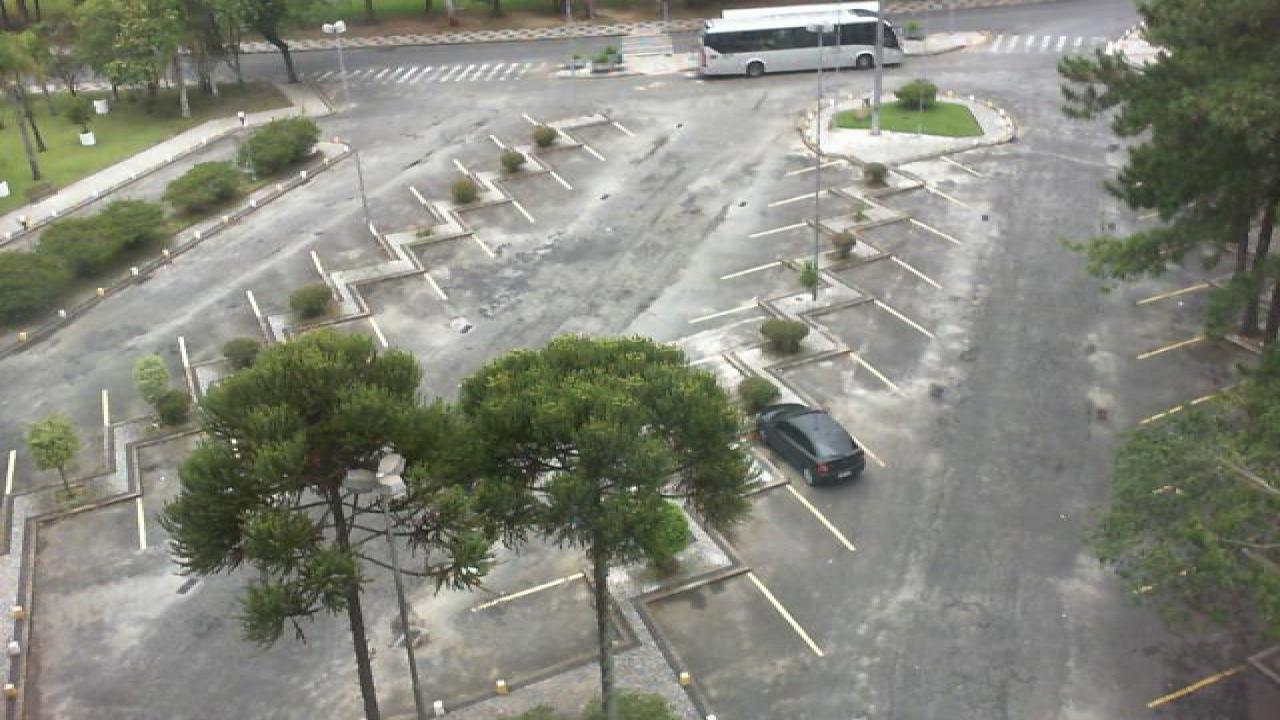Car: (752, 402, 868, 487)
